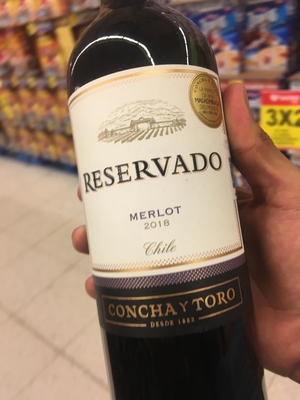reservado merlot: (67, 13, 250, 400)
